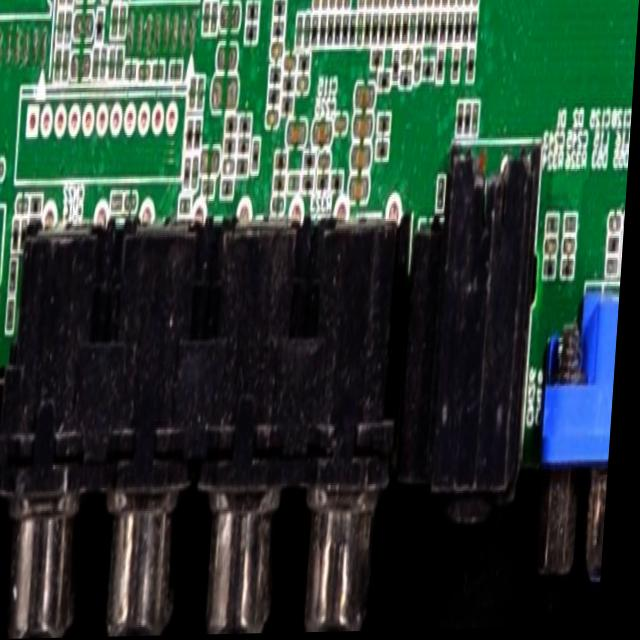IC: (127, 0, 204, 57), (0, 0, 52, 68)
capacitor: (352, 175, 373, 205), (318, 149, 336, 176), (289, 128, 310, 149), (317, 121, 332, 148), (356, 120, 376, 139), (355, 151, 372, 172), (335, 119, 351, 140), (267, 111, 282, 132), (357, 90, 374, 108), (613, 215, 625, 238), (548, 238, 562, 256), (298, 76, 311, 95), (567, 240, 580, 258), (273, 43, 285, 57), (284, 56, 296, 70), (406, 0, 414, 11), (472, 0, 480, 11), (313, 0, 321, 10), (329, 0, 337, 9), (322, 0, 330, 9), (343, 0, 353, 7), (625, 215, 628, 234), (398, 0, 405, 8), (359, 0, 365, 9), (443, 0, 450, 7), (427, 0, 435, 6), (412, 0, 419, 6), (389, 0, 396, 6), (435, 0, 441, 7), (464, 0, 472, 5), (383, 0, 388, 8), (376, 0, 382, 6), (449, 0, 456, 5), (459, 0, 465, 5), (422, 0, 428, 4), (367, 0, 374, 3), (338, 0, 343, 3)
resistor: (376, 137, 395, 164), (424, 10, 434, 51), (378, 114, 395, 137), (245, 15, 258, 45), (273, 14, 286, 42), (565, 259, 580, 283), (544, 262, 561, 283), (186, 124, 197, 156), (432, 17, 440, 57), (467, 51, 477, 83), (447, 14, 456, 49), (459, 101, 467, 139), (241, 114, 255, 135), (470, 13, 479, 45), (419, 12, 427, 48), (463, 16, 471, 52), (278, 153, 291, 175), (364, 15, 374, 43), (326, 21, 336, 48), (299, 54, 313, 73), (334, 174, 346, 196), (335, 16, 344, 45), (274, 0, 287, 20), (227, 119, 242, 136), (312, 18, 321, 46), (402, 19, 411, 47), (454, 51, 462, 81), (194, 122, 202, 152), (185, 159, 193, 189), (379, 72, 392, 90), (320, 18, 328, 47), (378, 22, 388, 45), (433, 16, 439, 54), (306, 154, 318, 173), (245, 4, 260, 19), (306, 176, 318, 194), (284, 78, 295, 97), (372, 52, 384, 69), (457, 12, 464, 41), (393, 15, 400, 44), (466, 104, 472, 137), (411, 14, 418, 42), (319, 176, 331, 192), (270, 87, 280, 106), (441, 21, 449, 43), (349, 20, 356, 45), (342, 22, 349, 46), (270, 70, 282, 83), (373, 20, 380, 41), (388, 20, 394, 44), (277, 177, 286, 193), (284, 100, 293, 112)
